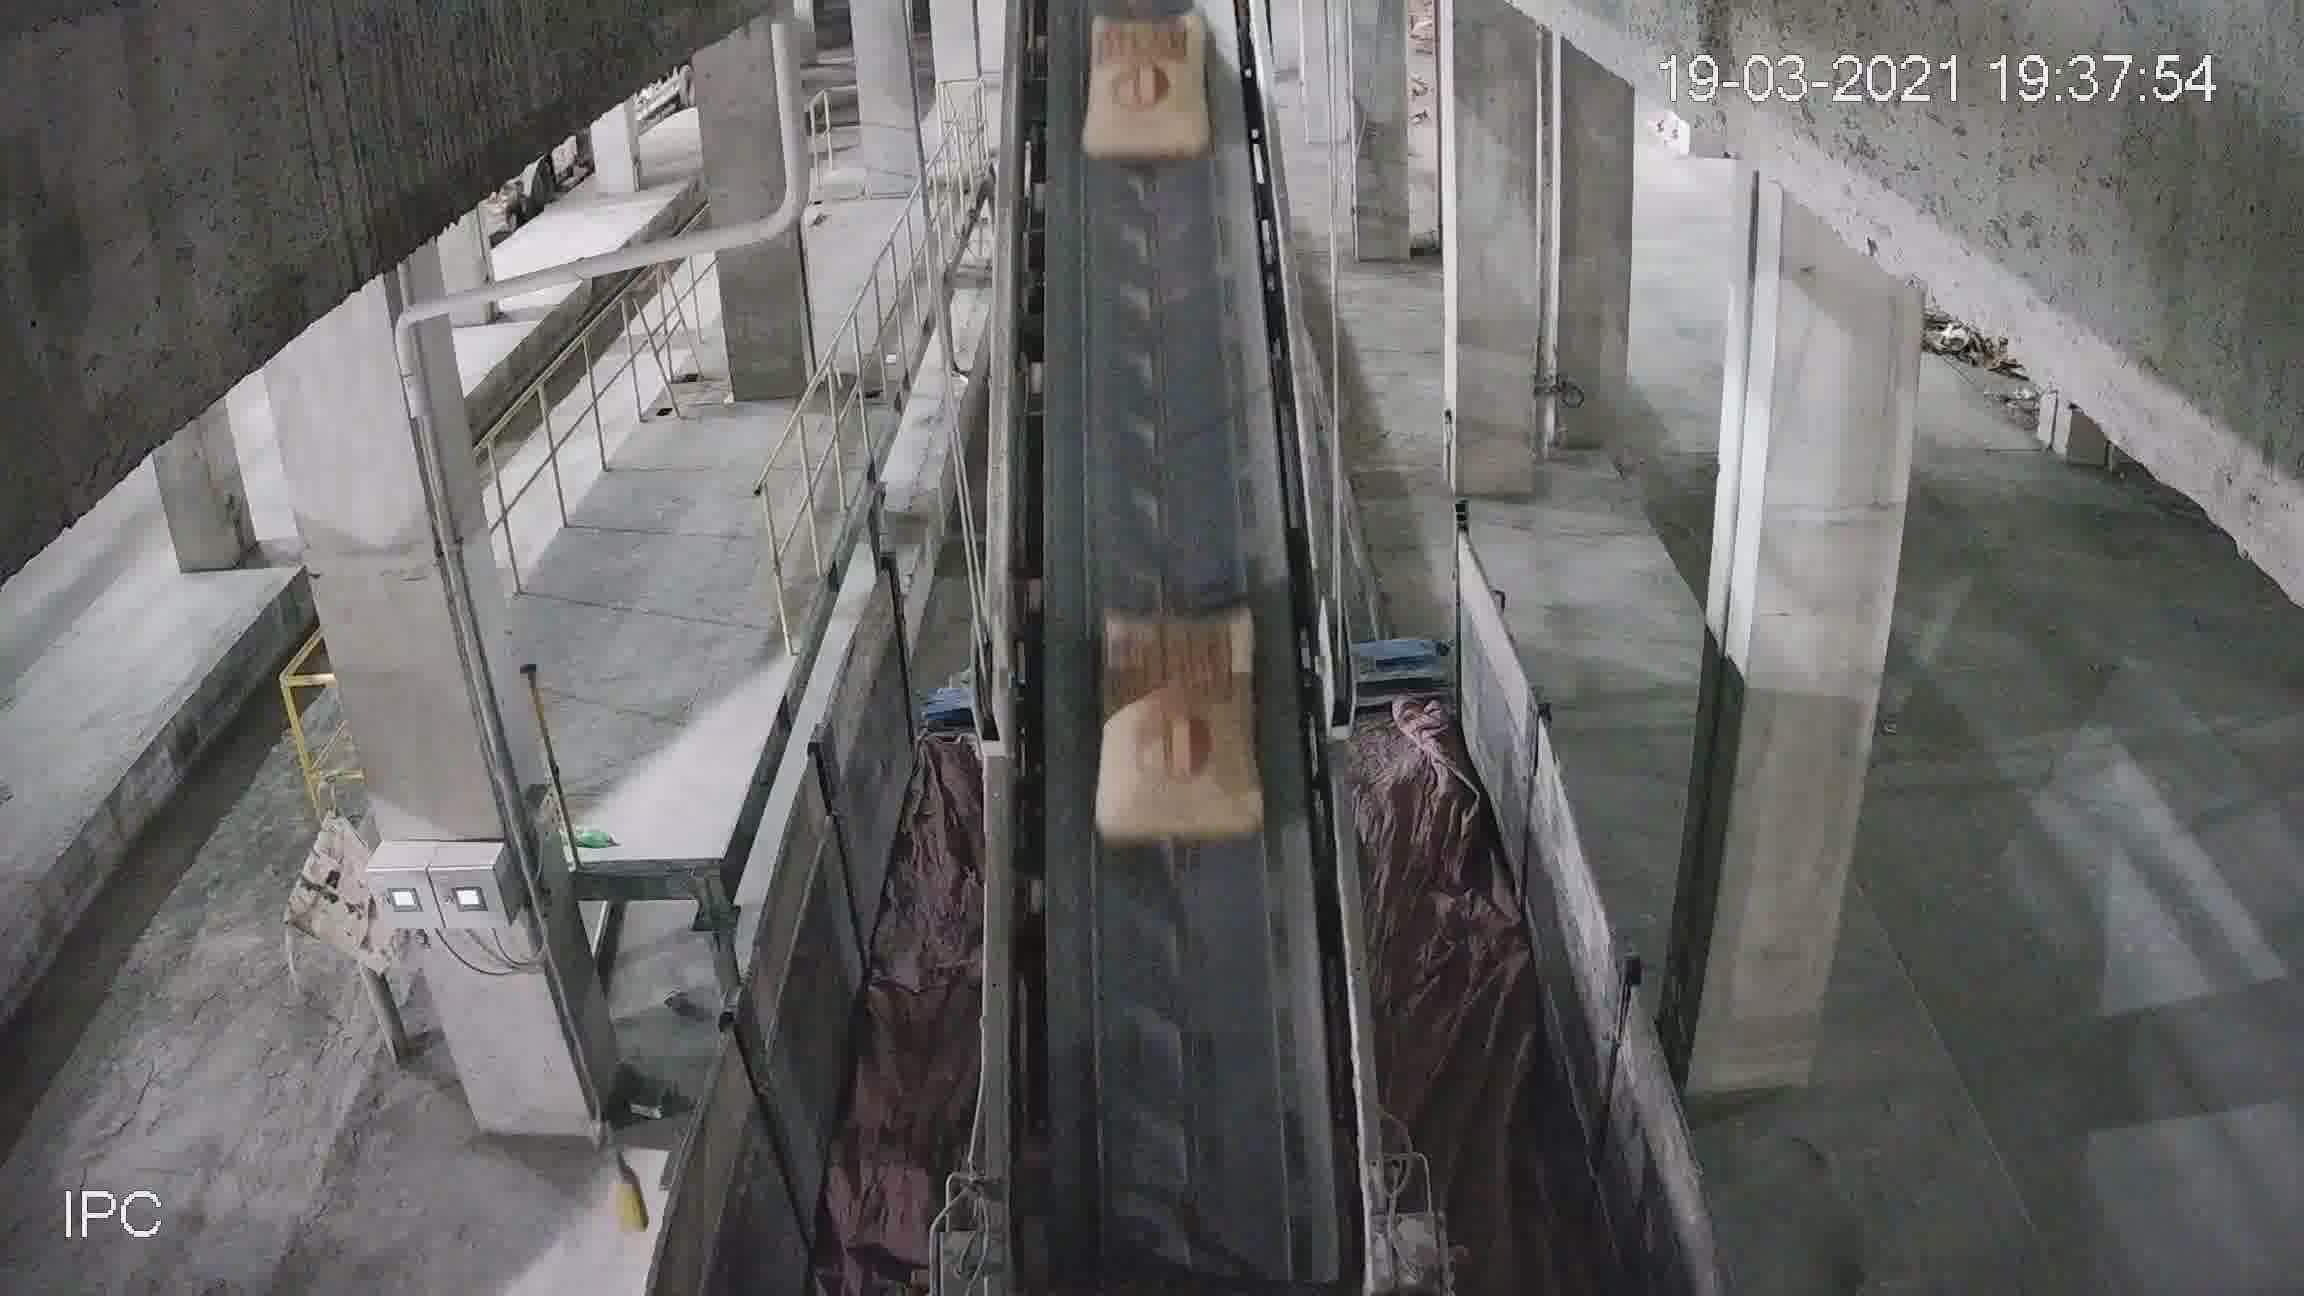bag: (1100, 619, 1263, 847), (1084, 14, 1215, 157)
belt: (994, 127, 1342, 1185)
